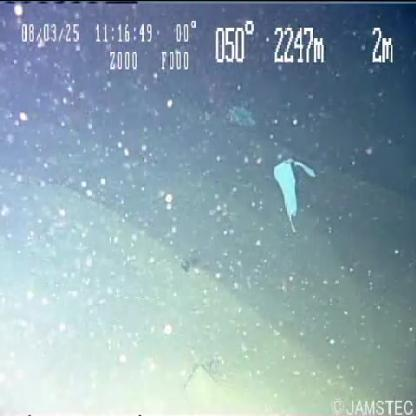Rác: (274, 160, 298, 221)
